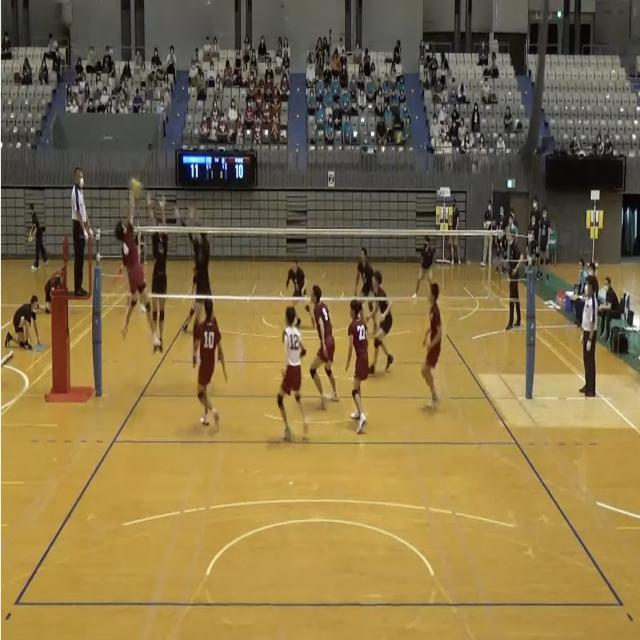spike: (112, 173, 160, 351)
